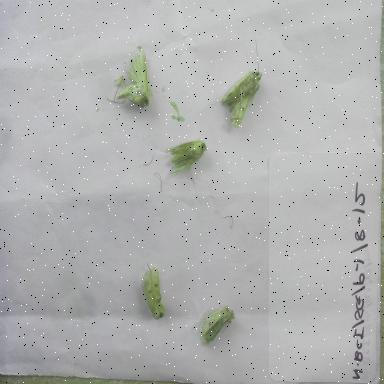abw: (217, 37, 267, 135), (103, 42, 155, 121), (132, 252, 172, 326), (162, 130, 212, 183), (195, 300, 239, 354)
